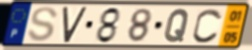8: (95, 5, 122, 45), (127, 7, 154, 43)
C: (191, 8, 224, 45)
Q: (163, 8, 191, 44)
S: (26, 5, 60, 43)
V: (61, 6, 89, 44)
